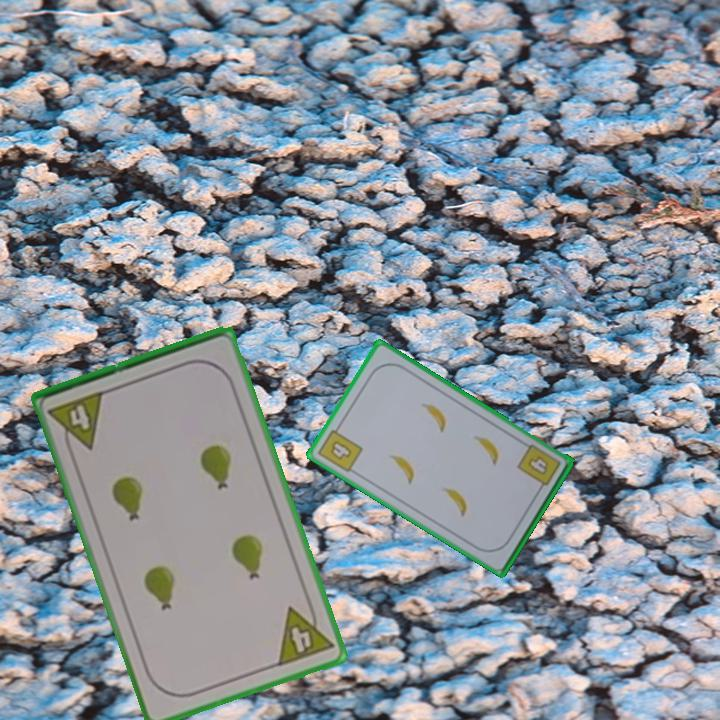4b: (314, 420, 366, 475), (513, 440, 564, 495)
4p: (273, 597, 337, 670), (45, 387, 108, 458)
